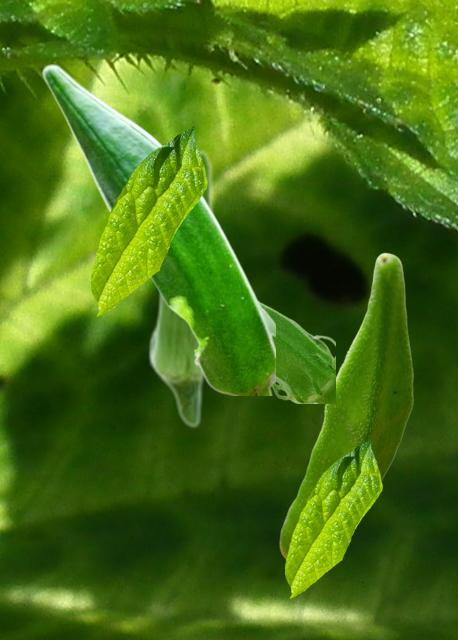okra: (41, 64, 274, 394), (279, 252, 412, 558), (147, 149, 214, 428), (260, 301, 334, 402)
